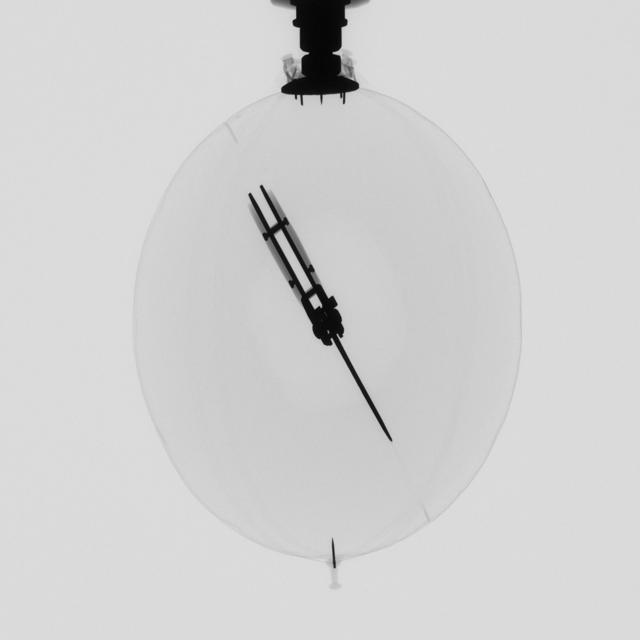knife: (242, 174, 406, 456)
